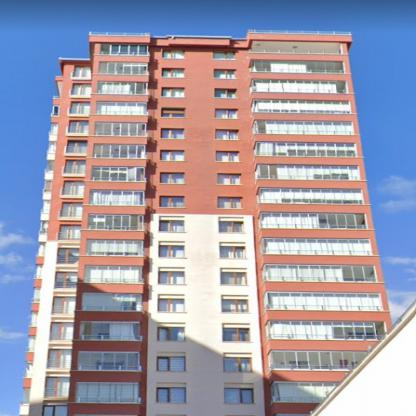window: (269, 322, 386, 340), (268, 292, 383, 310), (266, 265, 378, 282), (263, 214, 368, 230), (272, 352, 370, 369), (264, 240, 371, 254), (260, 190, 363, 204), (258, 166, 360, 180), (256, 143, 357, 157), (256, 121, 353, 134), (255, 100, 350, 113), (275, 383, 341, 401), (252, 60, 343, 73), (76, 383, 137, 402), (252, 80, 347, 92), (78, 352, 139, 370), (82, 293, 141, 311), (79, 323, 140, 339), (86, 240, 143, 256), (85, 266, 141, 282), (88, 214, 142, 230), (92, 167, 145, 181), (91, 190, 143, 204), (95, 122, 146, 136), (94, 144, 145, 158), (96, 102, 146, 115), (100, 62, 148, 74), (98, 82, 146, 93), (44, 376, 69, 397), (101, 43, 148, 54), (50, 322, 73, 341), (158, 268, 185, 284), (158, 296, 184, 312), (47, 350, 70, 368), (224, 389, 253, 403), (221, 297, 248, 312), (222, 328, 250, 342), (156, 388, 184, 402), (158, 357, 185, 371), (52, 297, 75, 313), (158, 327, 184, 341), (225, 357, 251, 371), (61, 202, 83, 218), (57, 248, 78, 264), (57, 272, 78, 288), (58, 225, 80, 240), (222, 270, 245, 284), (63, 181, 84, 196), (66, 140, 88, 154), (219, 246, 244, 258), (159, 245, 183, 257), (65, 160, 85, 174), (161, 219, 184, 231), (219, 221, 243, 232), (160, 173, 183, 184), (69, 121, 88, 134), (70, 102, 90, 114), (218, 198, 242, 208), (160, 197, 184, 207), (42, 406, 68, 415), (216, 152, 239, 162), (162, 108, 184, 118), (161, 129, 183, 139), (218, 174, 239, 184), (160, 151, 183, 160), (74, 66, 91, 78), (72, 84, 90, 95), (162, 68, 184, 77), (162, 88, 184, 97), (216, 130, 238, 139), (215, 109, 236, 118), (215, 90, 236, 98), (214, 52, 234, 60), (215, 70, 235, 78), (163, 50, 183, 57), (40, 222, 47, 233), (51, 124, 57, 134), (48, 161, 53, 172), (44, 181, 50, 190), (50, 142, 55, 152), (44, 202, 49, 212), (53, 106, 58, 115)
